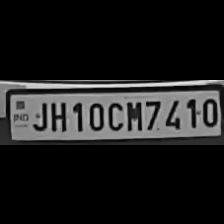0: (86, 98, 106, 130), (198, 94, 218, 126)
1: (68, 98, 84, 132), (182, 94, 198, 128)
4: (162, 95, 182, 129)
7: (142, 96, 160, 130)
C: (105, 98, 123, 130)
H: (47, 97, 69, 130)
J: (28, 97, 48, 130)
M: (122, 97, 142, 130)
